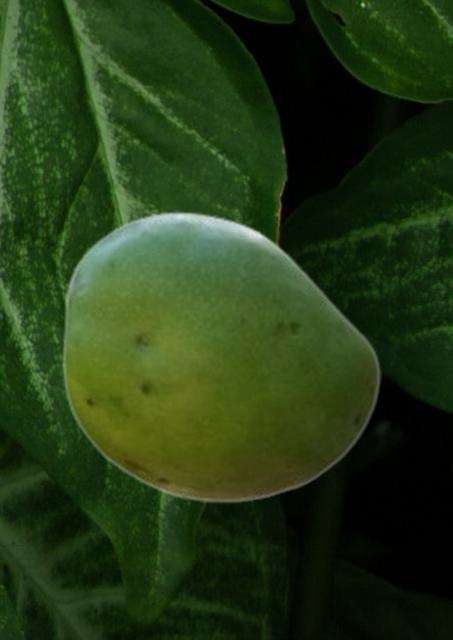green_mango: (61, 210, 380, 503)
